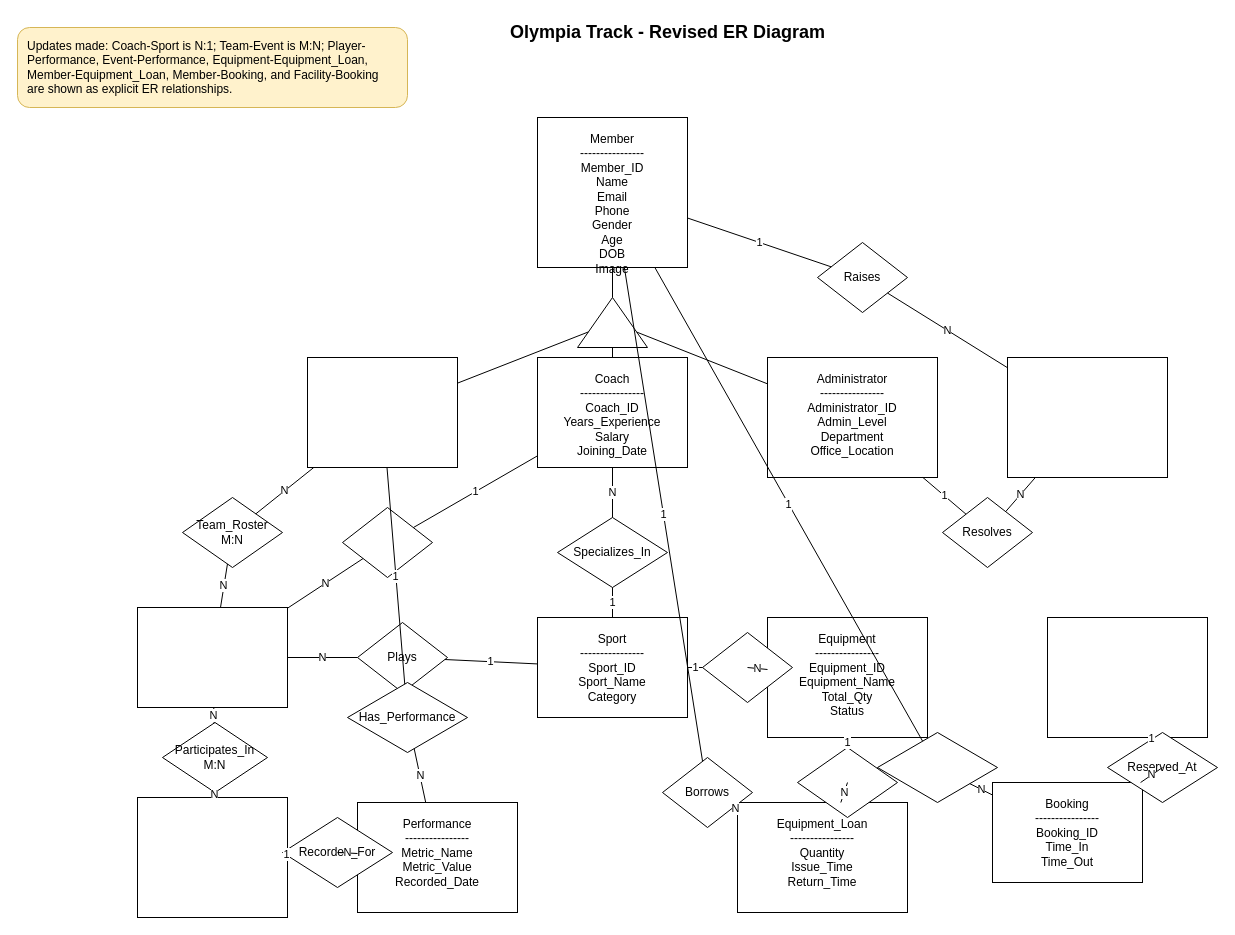
Some shapes in this 1235 by 935 pixel diagram are drawn without their labels. Here are the shapes that lost their labels. From the top down, the box of each, then its label:
(576, 296, 648, 348): ISA
(306, 356, 458, 468): Player ---------------- Player_ID Height Weight Blood_Group
(1006, 356, 1168, 478): Complaint ---------------- Complaint_ID Description Status Date_Filed
(342, 506, 432, 578): Coaches
(136, 606, 288, 708): Team ---------------- Team_ID Team_Name Category
(702, 632, 792, 702): For_Sport
(1046, 616, 1208, 738): Facility ---------------- Facility_ID Facility_Name Description Status
(796, 746, 898, 818): Loaned_In
(876, 732, 998, 802): Makes_Booking
(136, 796, 288, 918): Event ---------------- Event_ID Event_Name Start_Time End_Time Status
